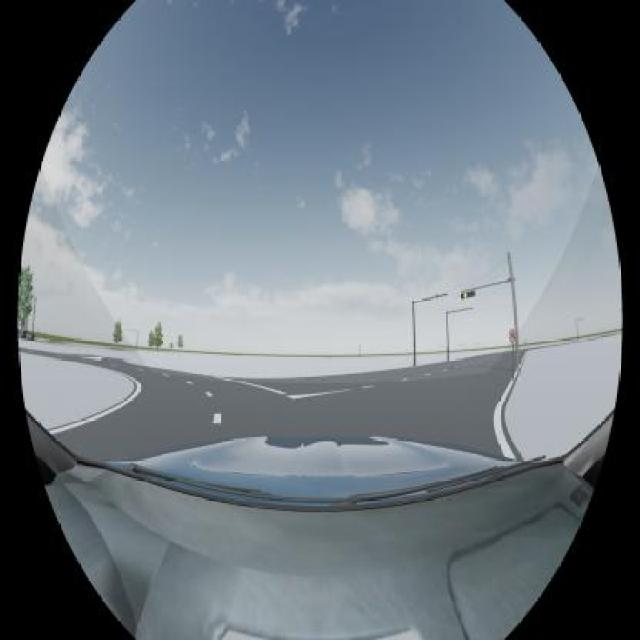forb_speed_over_100: (509, 330, 516, 342)
